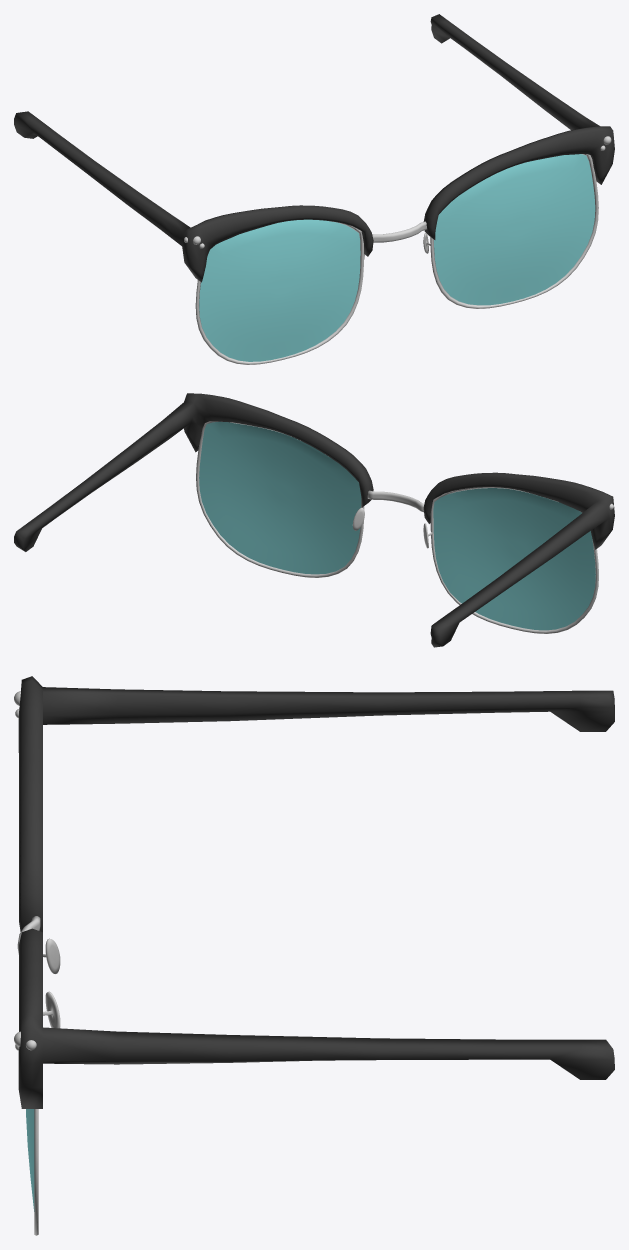
Rendered from Glasses2.fbx.
3 views of the same model, one above another, from view 1: azimuth 30°, elevation 25°; view 2: azimuth 150°, elevation 25°; view 3: azimuth 270°, elevation 25° (orthographic). The views are drawn at different scales.
Visible parts, largest first — view 1: Circle; view 2: Circle; view 3: Circle.
Boxes of the visible parts, x1,y1,x2,y2 form: Circle: [14, 14, 614, 364]; Circle: [14, 393, 614, 647]; Circle: [14, 676, 614, 1235].
Bounding box in the file's own units: 474 × 169 × 338.
